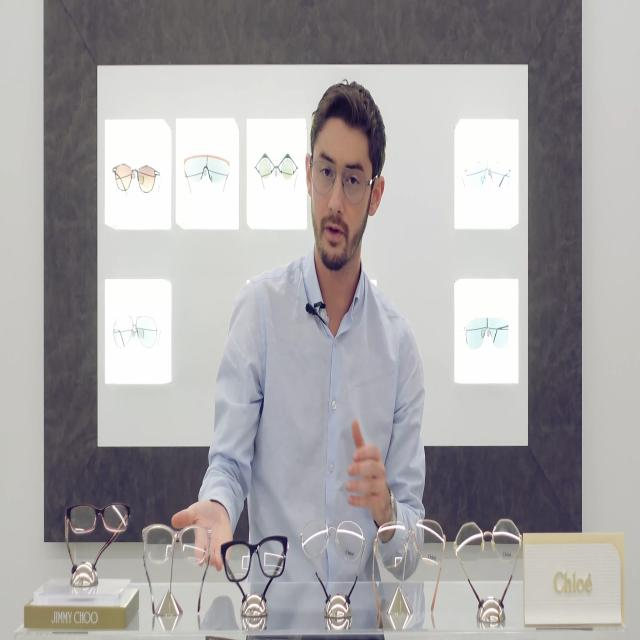dress: (199, 245, 425, 582)
glasses: (221, 532, 287, 584), (376, 520, 445, 567), (142, 520, 210, 567), (456, 517, 520, 566), (300, 513, 362, 560), (64, 499, 130, 538), (313, 157, 367, 204), (182, 150, 230, 191), (112, 160, 156, 196)
